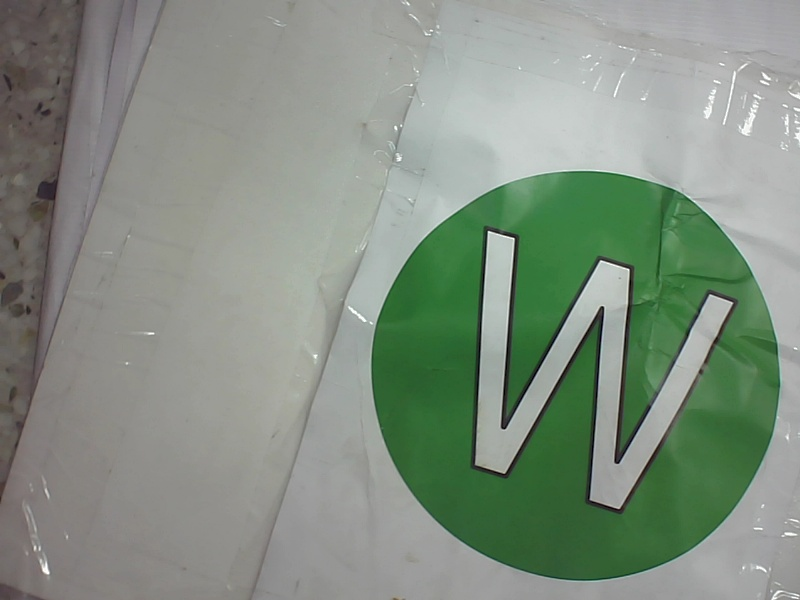areaB: (356, 161, 786, 597)
